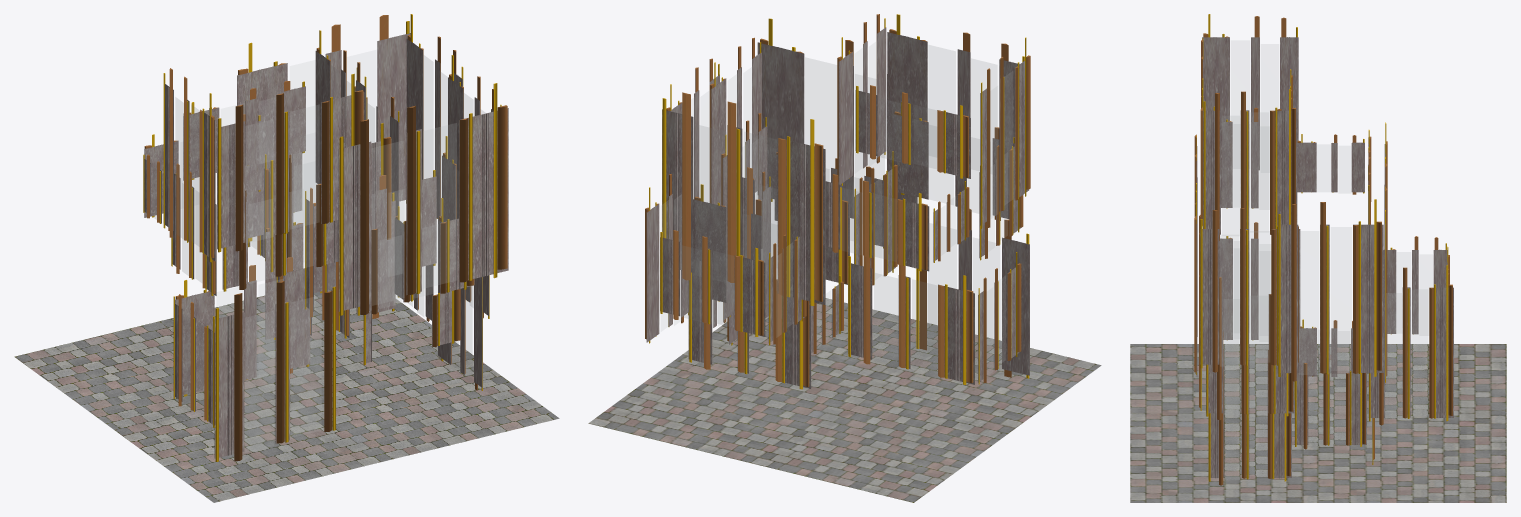
Rendered from Pav_20.glb.
3 views of the same model, side by side, from view 1: azimuth 30°, elevation 25°; view 2: azimuth 150°, elevation 25°; view 3: azimuth 270°, elevation 25° (orthographic). The views are drawn at different scales.
Parts seen in each view (by area): view 1: Dark, GroundPlan, Glaze, Metal1, Metal2; view 2: Dark, GroundPlan, Glaze, Metal1, Metal2; view 3: GroundPlan, Dark, Glaze, Metal1, Metal2.
Part boxes in pixels (<box>): Dark: <box>144,33,508,458</box>; GroundPlan: <box>14,289,559,502</box>; Glaze: <box>153,50,484,452</box>; Metal1: <box>144,15,507,461</box>; Metal2: <box>143,14,501,461</box>; Dark: <box>646,27,1029,388</box>; GroundPlan: <box>588,298,1101,502</box>; Glaze: <box>661,41,1012,375</box>; Metal1: <box>645,14,1030,386</box>; Metal2: <box>649,14,1029,389</box>; GroundPlan: <box>1130,344,1506,502</box>; Dark: <box>1196,37,1453,478</box>; Glaze: <box>1220,41,1432,479</box>; Metal1: <box>1194,16,1452,485</box>; Metal2: <box>1195,14,1448,481</box>.
Size of what is drawn, in the model's own units: 16 by 16.32 by 16.
Materials: 5 (4 with a texture image).
